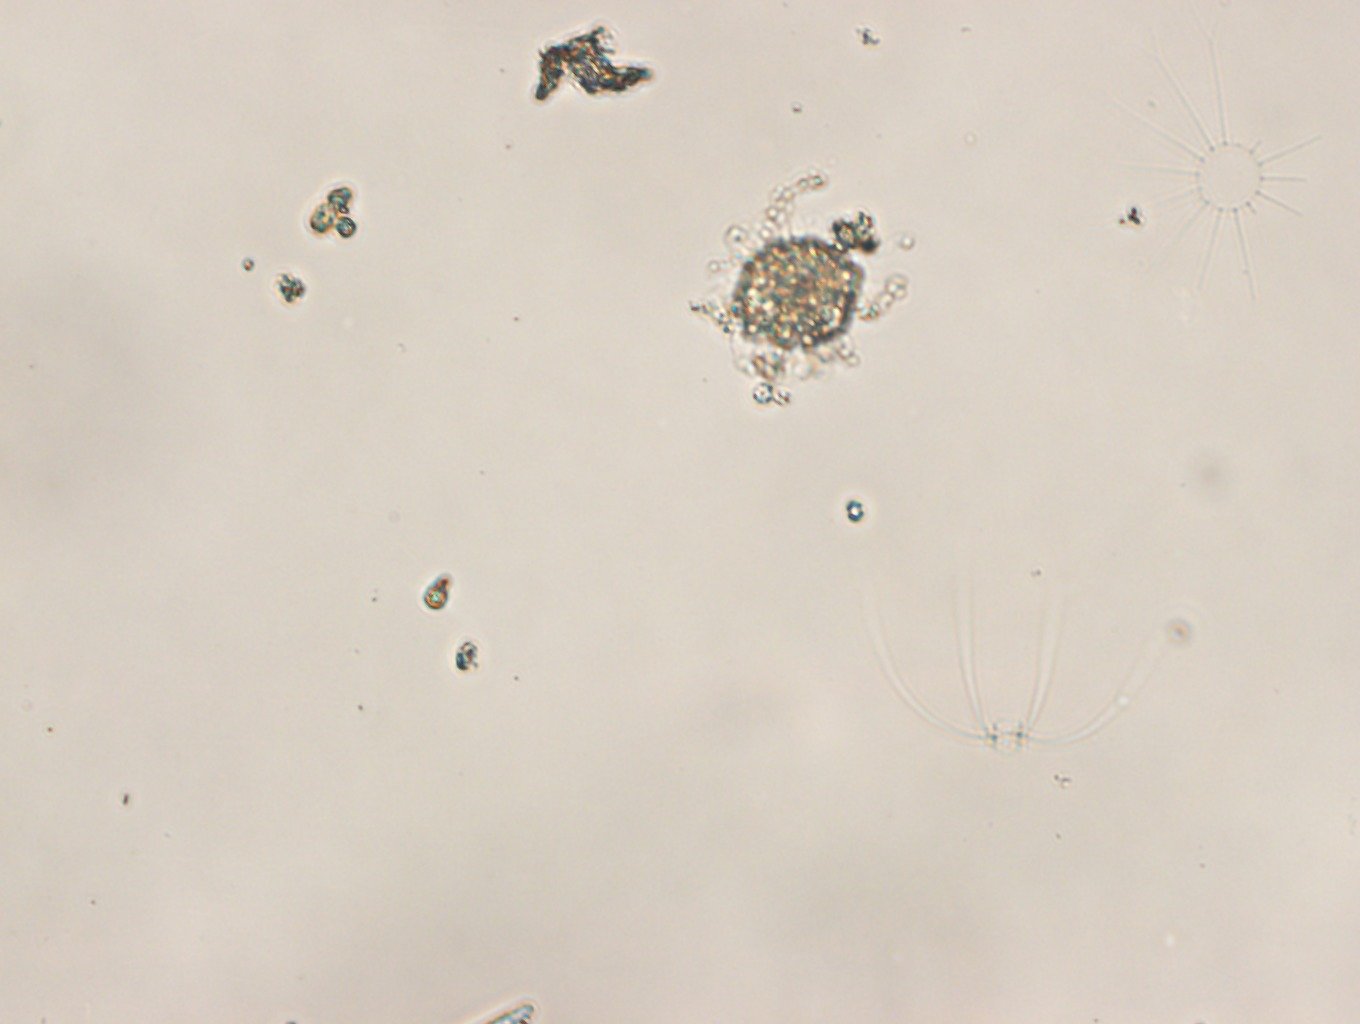bacteriastrum: (1089, 5, 1360, 311)
chaetoceros: (867, 559, 1155, 750)
